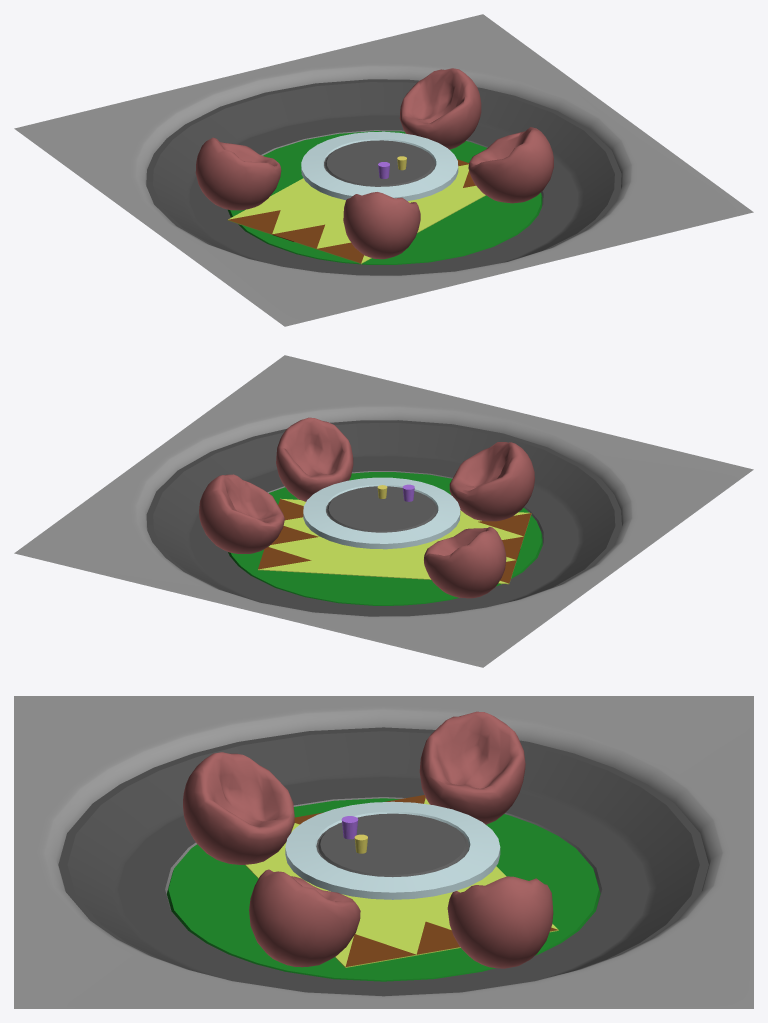
Rendered from MB_Lounge_Seating.fbx.
3 renders of one model, top to bottom at view 1: azimuth 30°, elevation 25°; view 2: azimuth 150°, elevation 25°; view 3: azimuth 270°, elevation 25°, orthographic. The views are drawn at different scales.
Parts seen in each view (by area): view 1: Cube.4238; view 2: Cube.4238; view 3: Cube.4238.
Boxes of the visible parts, x1,y1,x2,y2 form: Cube.4238: (14, 14, 753, 326); Cube.4238: (14, 355, 753, 667); Cube.4238: (14, 696, 753, 1008).
Bounding box in the file's own units: 1000 × 148 × 1000.
